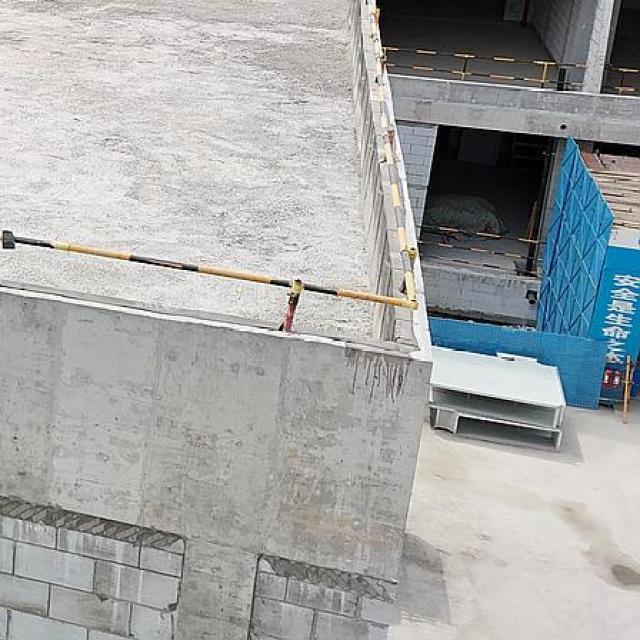edge_guardrail: (1, 60, 419, 334), (379, 40, 588, 90), (418, 224, 539, 276), (601, 64, 639, 96)
